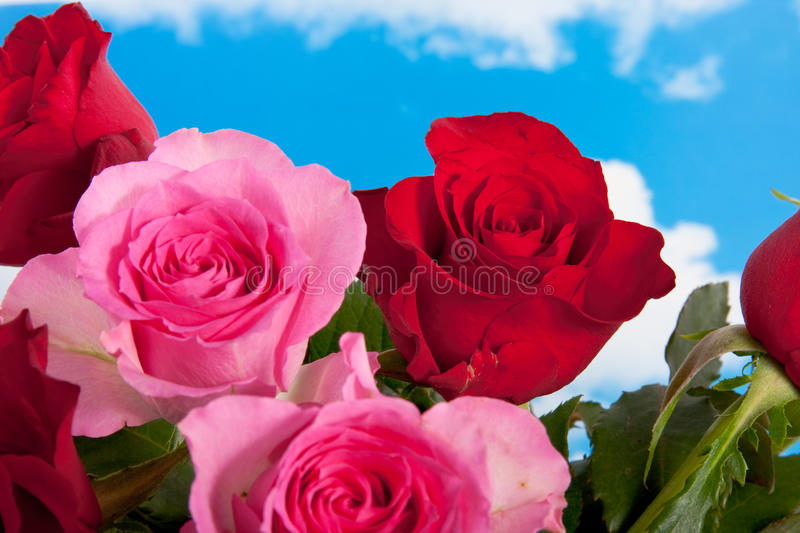RedRose: (354, 98, 656, 407), (2, 6, 163, 256)
